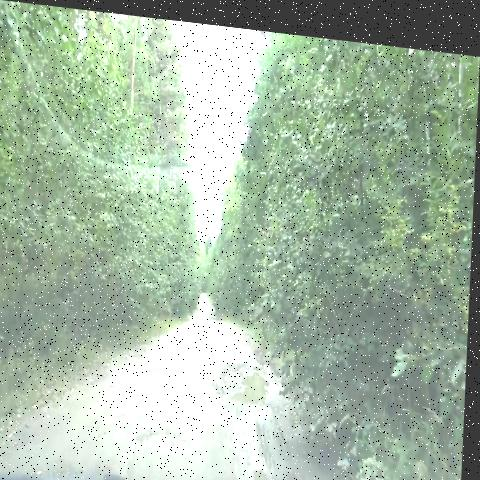pothole: (204, 345, 289, 426), (130, 416, 196, 457), (136, 345, 191, 391), (181, 329, 218, 351), (205, 301, 224, 326)
